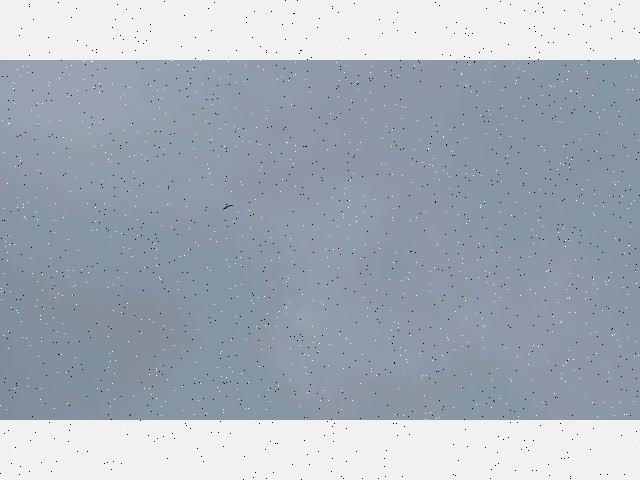Anti-Drone: (222, 204, 234, 210)
